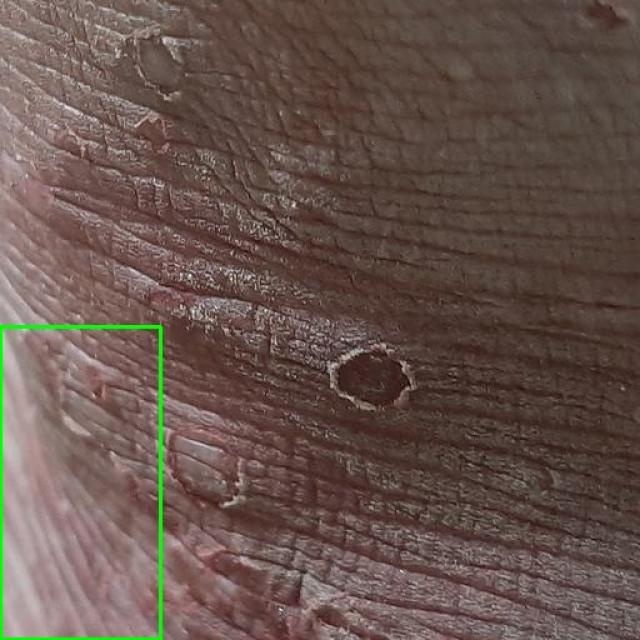Contact Dermatitis: (0, 326, 160, 639)
